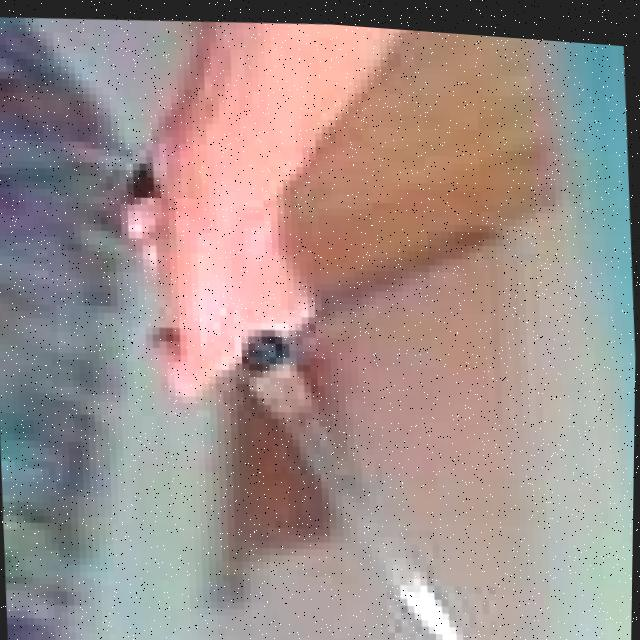knife: (235, 310, 474, 640)
